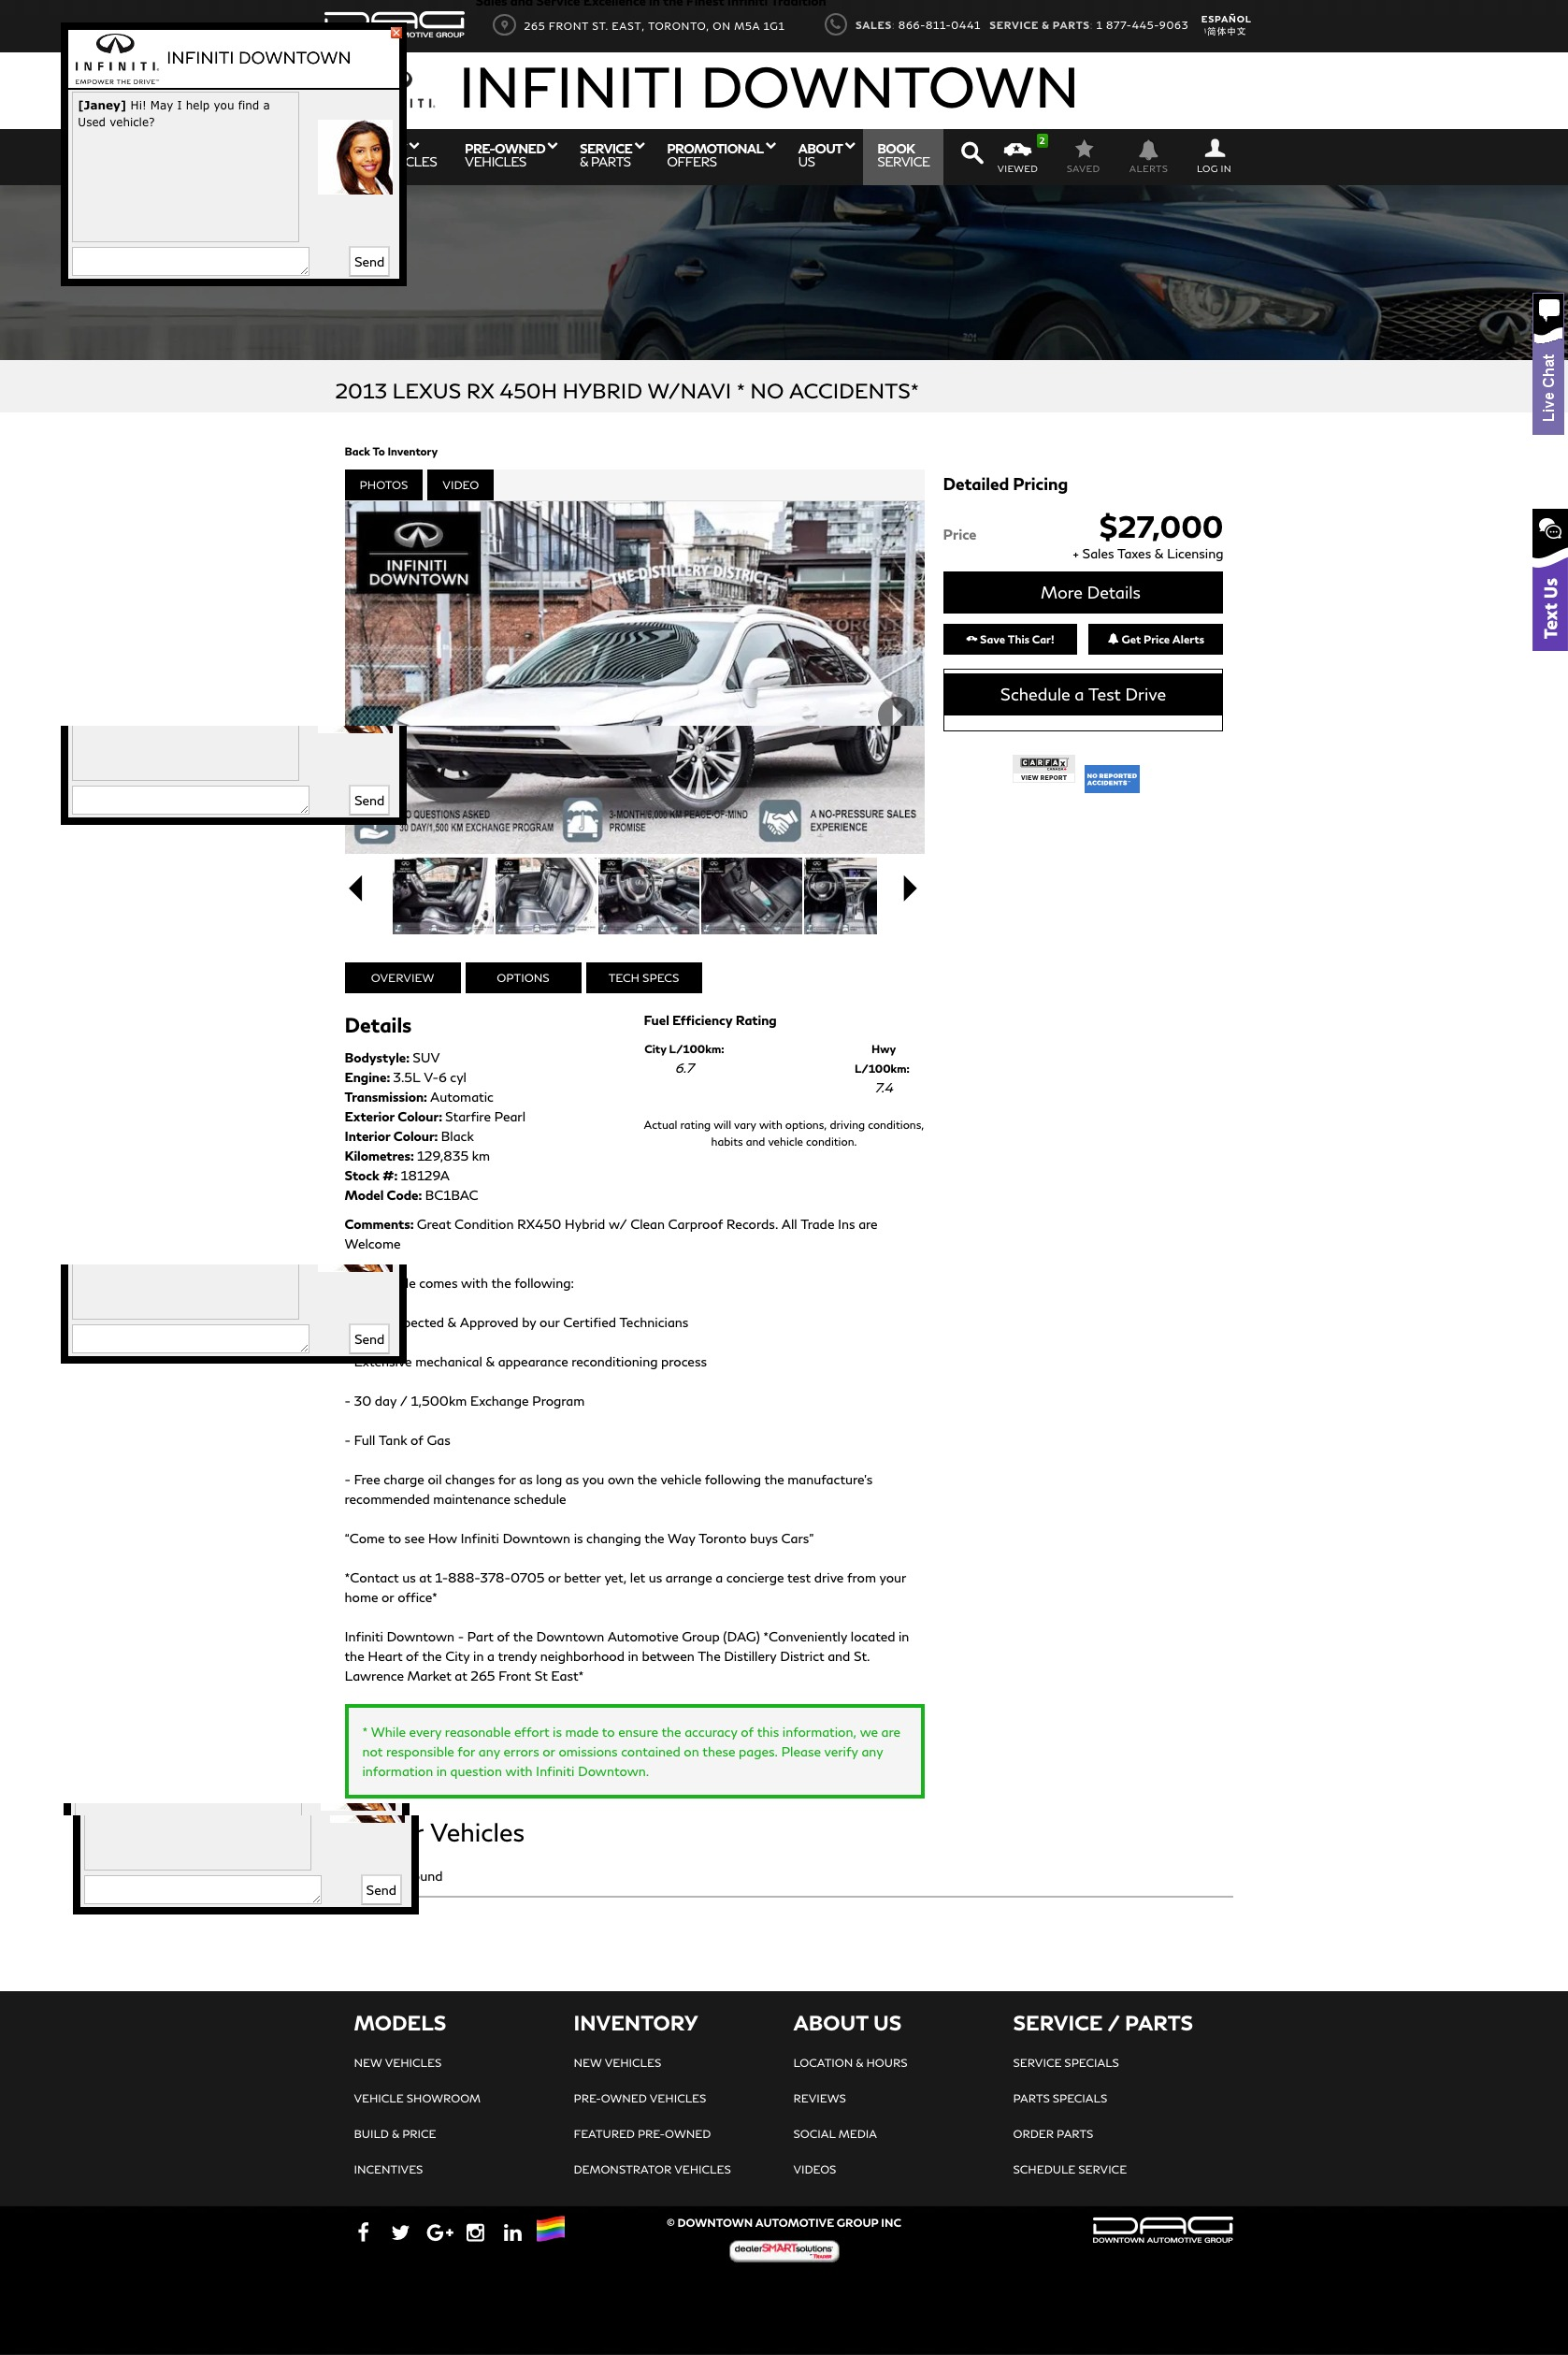car: (903, 875, 919, 903)
